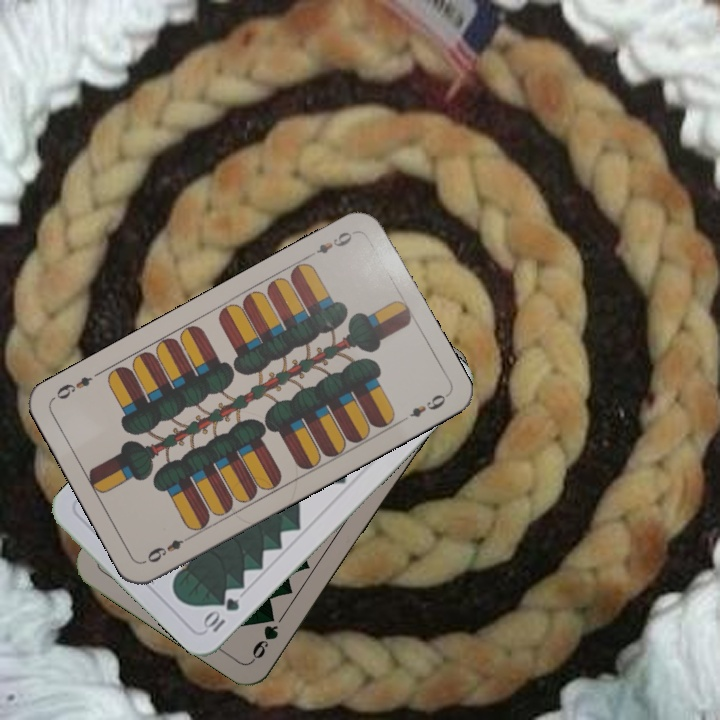E9: (141, 531, 194, 566), (304, 227, 355, 261)
G10: (199, 593, 242, 635)
G9: (248, 620, 282, 664)
